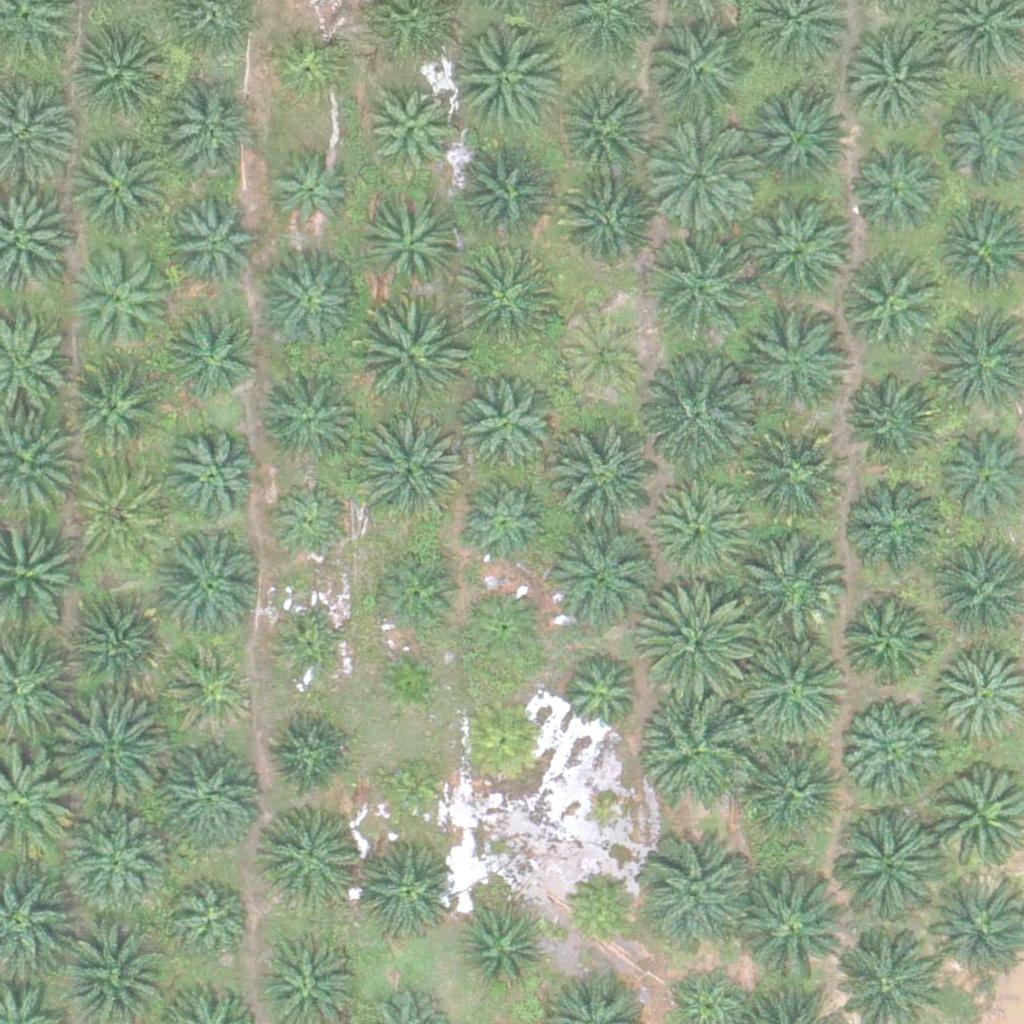Kelapa_Sawit: (641, 234, 754, 348), (442, 20, 555, 133), (829, 810, 942, 923), (644, 691, 757, 804), (641, 839, 754, 952), (734, 527, 847, 640), (641, 360, 754, 473), (351, 413, 464, 526), (352, 301, 465, 414), (63, 802, 175, 916), (733, 869, 845, 983), (737, 628, 849, 742), (639, 580, 751, 694), (642, 119, 754, 232), (50, 696, 162, 809), (153, 737, 265, 850), (450, 243, 562, 356), (152, 527, 264, 640), (548, 426, 660, 539), (543, 519, 655, 632), (75, 23, 175, 124), (164, 79, 264, 180), (447, 142, 547, 243), (550, 73, 650, 174), (749, 81, 849, 182), (849, 37, 949, 138), (352, 841, 452, 942), (834, 593, 934, 694), (841, 701, 941, 802), (650, 481, 750, 582), (455, 375, 555, 476), (359, 194, 459, 295), (257, 254, 357, 355), (259, 367, 359, 468), (161, 426, 261, 527), (67, 244, 167, 345), (64, 354, 164, 455), (71, 137, 171, 237), (644, 23, 744, 123), (65, 597, 165, 697), (258, 805, 358, 905), (748, 739, 848, 839), (846, 471, 946, 571), (838, 251, 938, 351), (843, 367, 943, 467), (749, 200, 849, 300), (749, 317, 849, 417), (741, 430, 841, 530), (551, 170, 651, 270), (70, 463, 170, 563), (459, 695, 547, 784), (268, 18, 356, 106), (363, 86, 451, 174), (459, 582, 547, 670), (560, 313, 648, 401), (264, 480, 352, 568), (167, 312, 255, 400), (166, 203, 254, 291), (461, 478, 548, 567), (263, 150, 350, 238), (852, 146, 939, 234), (167, 645, 254, 733), (171, 879, 258, 967), (266, 709, 353, 797), (458, 906, 545, 994), (555, 650, 642, 738), (370, 552, 457, 640), (562, 867, 637, 943), (370, 644, 445, 720), (374, 752, 449, 828), (276, 615, 351, 690)
